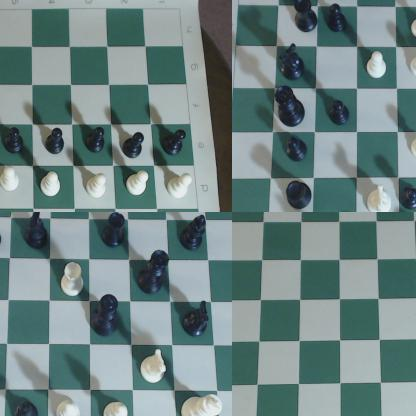black-bishop: (180, 213, 210, 253), (325, 5, 351, 33), (15, 402, 43, 416)
black-king: (94, 294, 123, 338)
black-knight: (183, 301, 212, 339), (280, 40, 306, 82), (25, 213, 51, 252)
black-pawn: (165, 124, 189, 160), (120, 129, 145, 163), (328, 97, 353, 129), (84, 124, 108, 155), (2, 127, 26, 157), (287, 136, 311, 163), (46, 125, 65, 157), (401, 186, 416, 212)
black-queen: (275, 85, 308, 128), (144, 248, 171, 299)
black-rook: (103, 213, 131, 255), (294, 1, 320, 34), (288, 182, 314, 209)
white-bishop: (55, 400, 82, 416), (104, 400, 129, 416)
white-king: (178, 395, 226, 416)
white-knight: (139, 349, 170, 386), (365, 183, 394, 212)
white-pawn: (162, 166, 195, 205), (40, 171, 69, 208), (1, 166, 25, 204), (89, 173, 113, 209), (127, 168, 151, 204), (366, 51, 388, 81), (408, 50, 416, 81), (409, 10, 416, 43), (410, 135, 416, 160)
white-rook: (60, 261, 90, 297)
